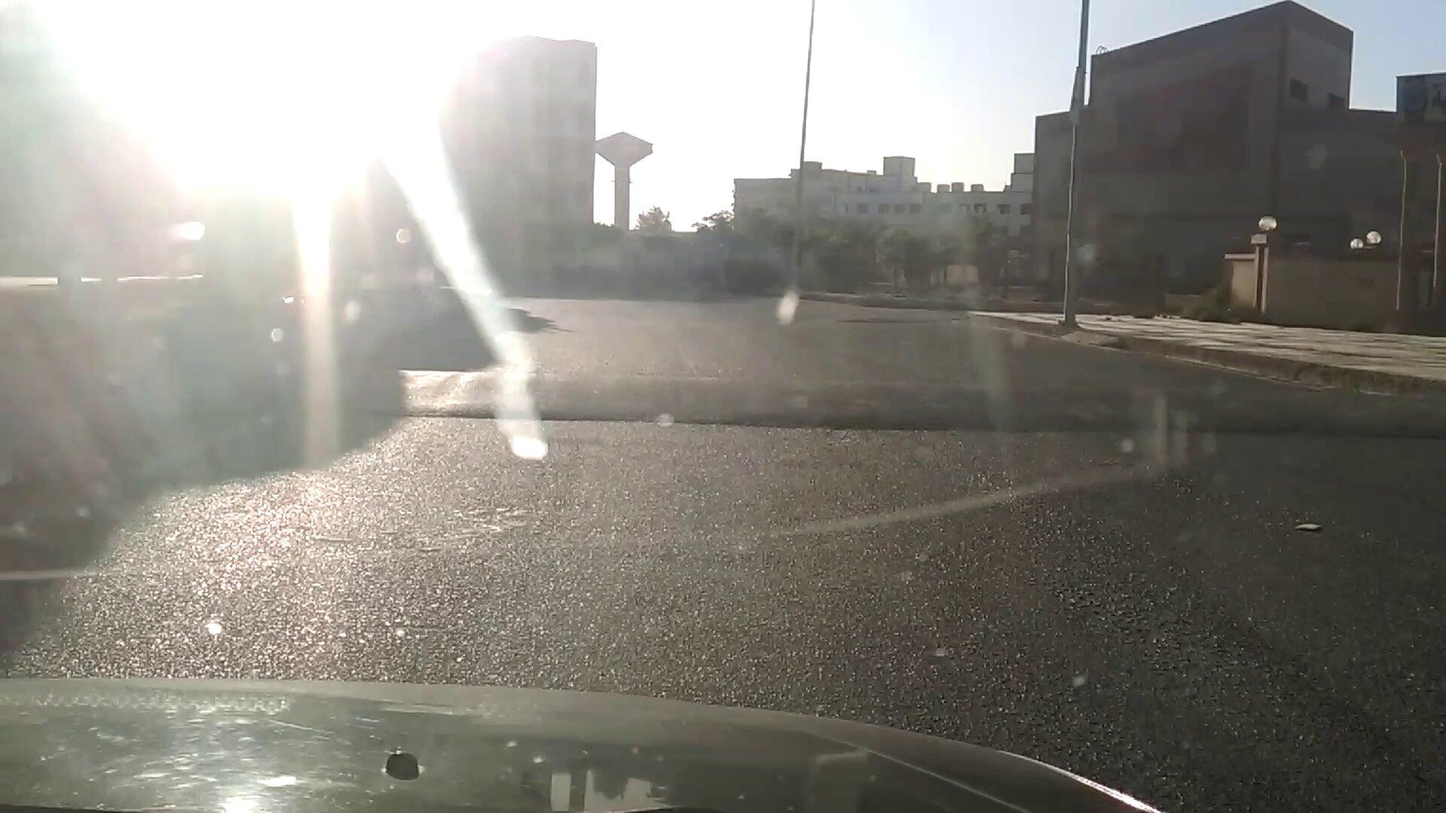Bump: (409, 359, 1418, 448)
